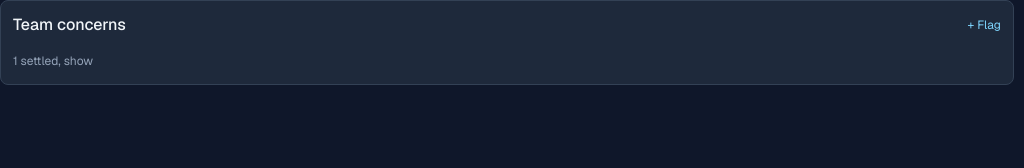
Scenario: ConcernStrip › shows settled flags struck through and un-withdrawable
Click the button with test id "concern-settled-toggle" at x=53, y=61, box left=13, top=53, right=93, bottom=69
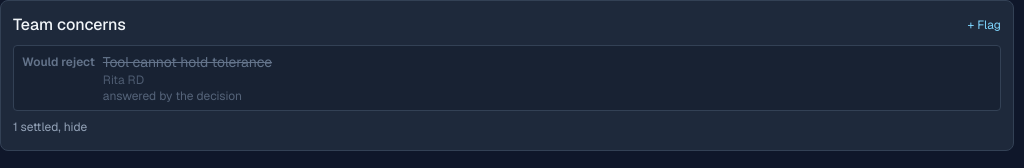
expect the text "Tool cannot hold tolerance" is shown: met, box left=103, top=53, right=272, bottom=71
expect the text "answered by the decision" is shown: met, box left=103, top=88, right=242, bottom=104
